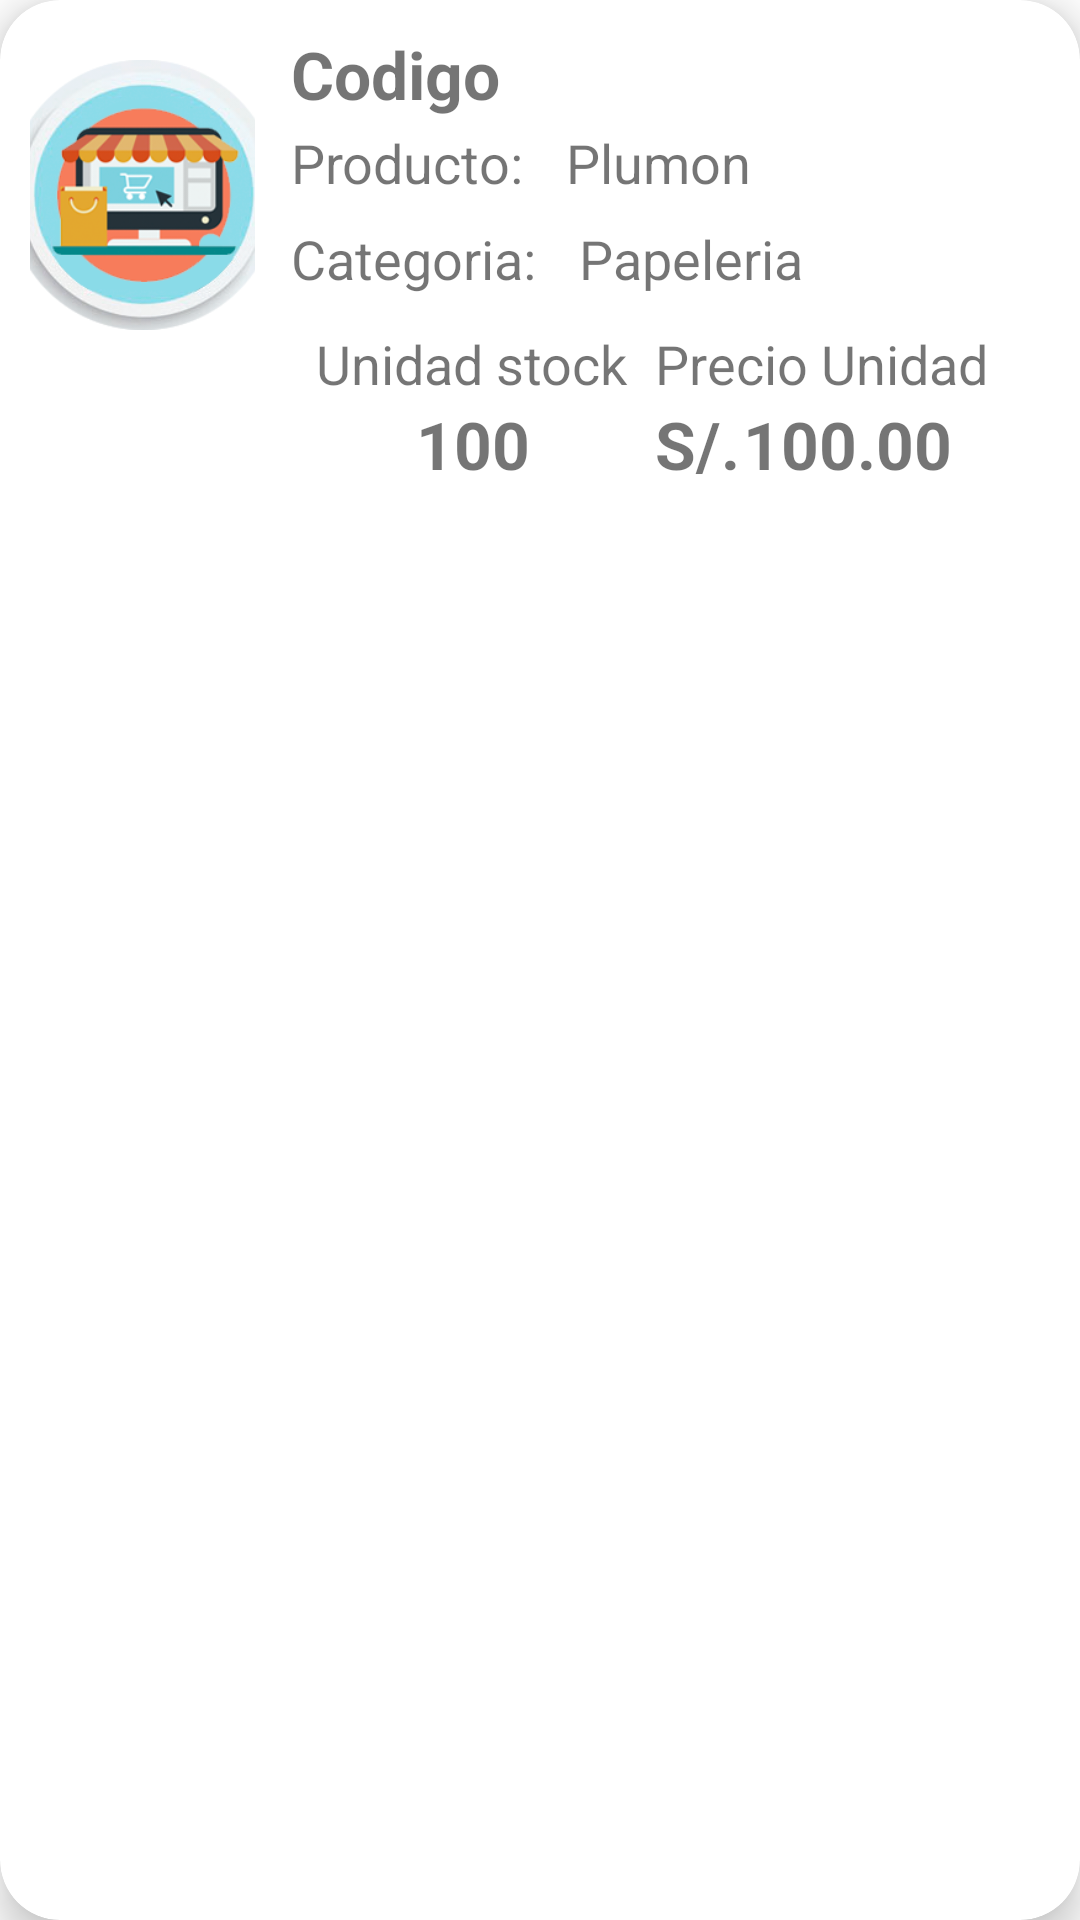

Icon bounding boxes for this 1080px x 1920px phone screenshot, format box(x1, y1, x2, y2):
ventas: box(30, 79, 255, 330)
